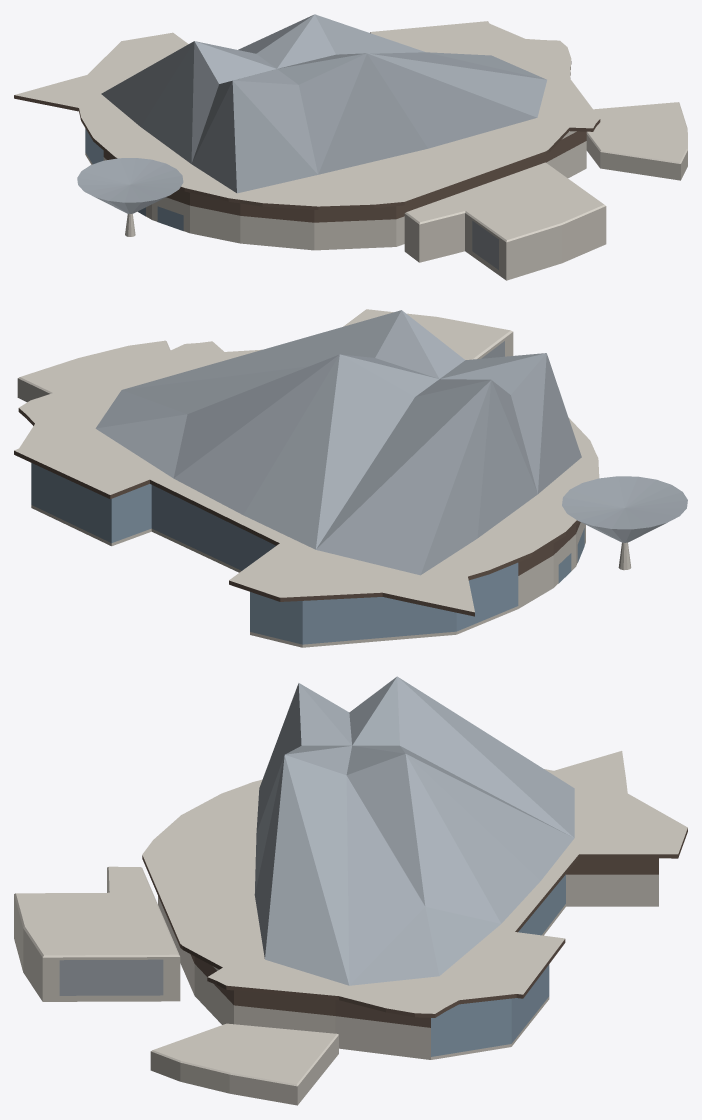
Rendered from phx-tempe-center-for-the-arts.glb.
3 views of the same model, one above another, from view 1: azimuth 30°, elevation 25°; view 2: azimuth 150°, elevation 25°; view 3: azimuth 270°, elevation 25° (orthographic). The views are drawn at different scales.
Parts seen in each view (by area): view 1: Tempe Center for the Arts; view 2: Tempe Center for the Arts; view 3: Tempe Center for the Arts.
Boxes of the visible parts, <box> form: Tempe Center for the Arts: <box>14,14,687,280</box>; Tempe Center for the Arts: <box>14,309,687,647</box>; Tempe Center for the Arts: <box>14,676,687,1105</box>.
Bounding box in the file's own units: 137 × 35.1 × 120.
